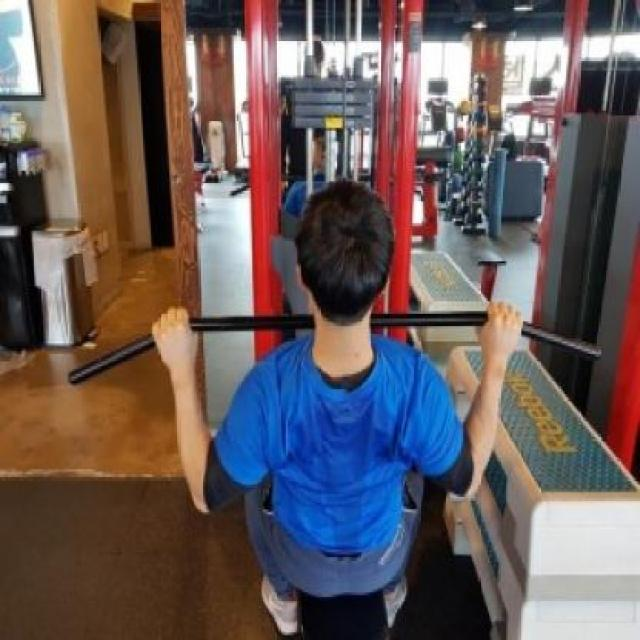Lat Pull Down: (51, 0, 615, 640)
